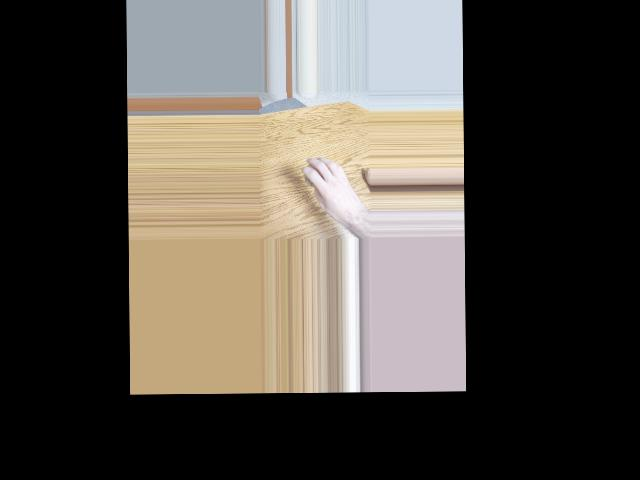onion: (303, 161, 328, 190)
